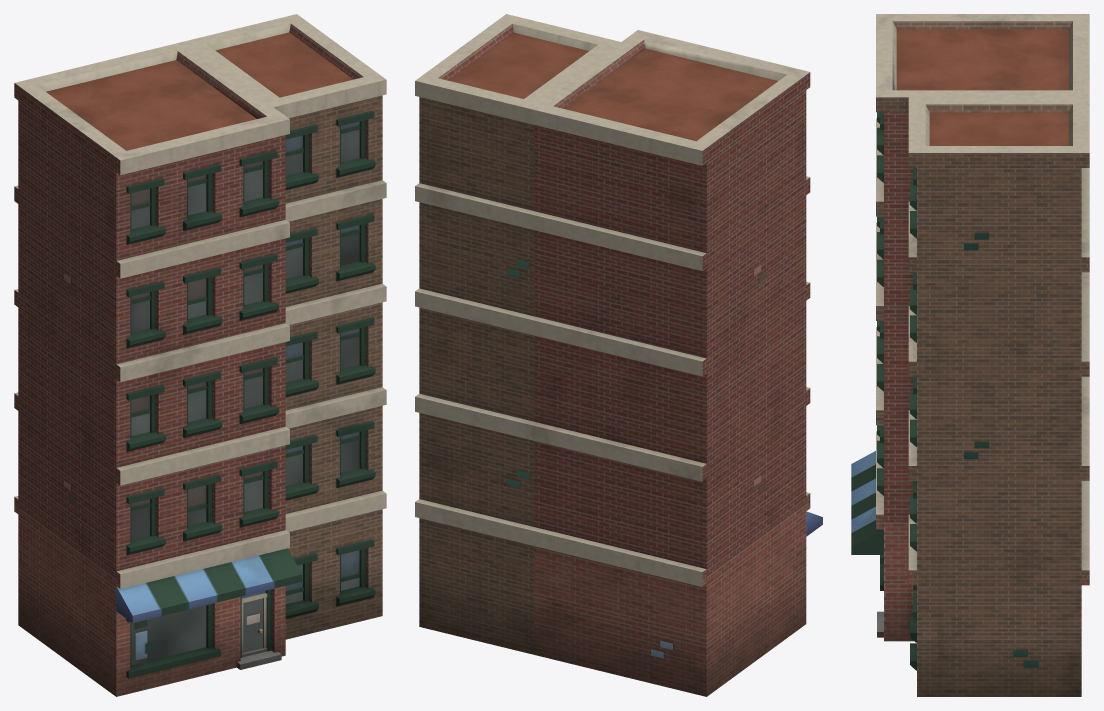
Rendered from building_G_6f.glb.
3 views of the same model, side by side, from view 1: azimuth 30°, elevation 25°; view 2: azimuth 150°, elevation 25°; view 3: azimuth 270°, elevation 25° (orthographic).
Parts seen in each view (by area): view 1: ground; view 2: ground; view 3: ground.
Part boxes in pixels (x1,y1,x2,y2): ground: (14,14,386,696); ground: (415,14,822,696); ground: (851,14,1089,696).
Bounding box in the file's own units: 2.01 × 3.65 × 1.45.
Materials: 2 (2 with a texture image).
